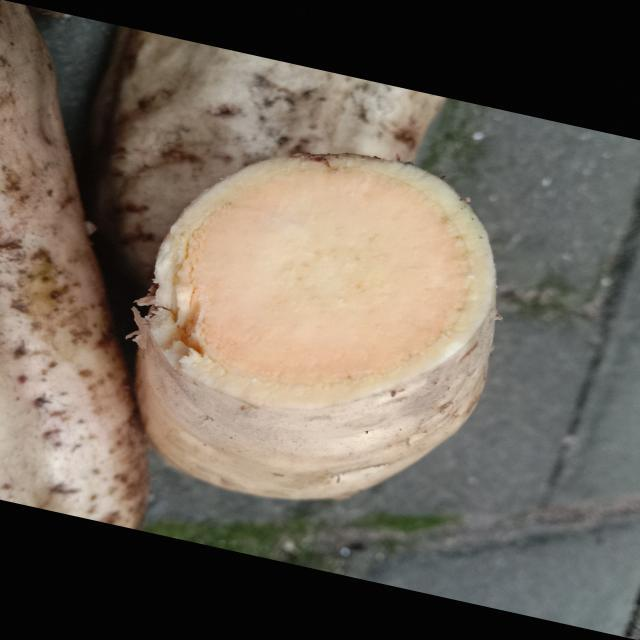Healthy Sweet Potato: (138, 154, 495, 408)
